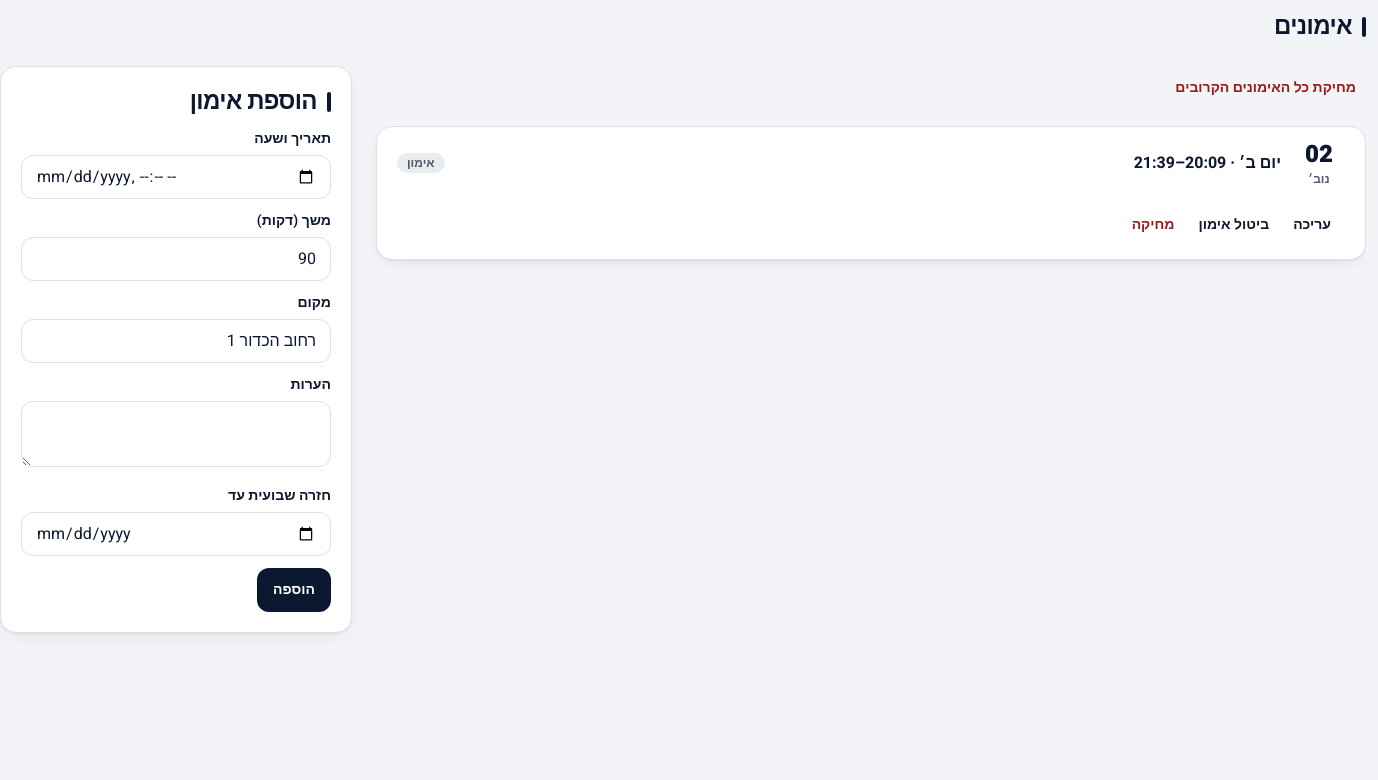
Scenario: PracticesAdmin › cancelling PATCHes cancelled: true
Click the button "ביטול אימון".
click(1234, 225)  # box 1188,203 -> 1279,247
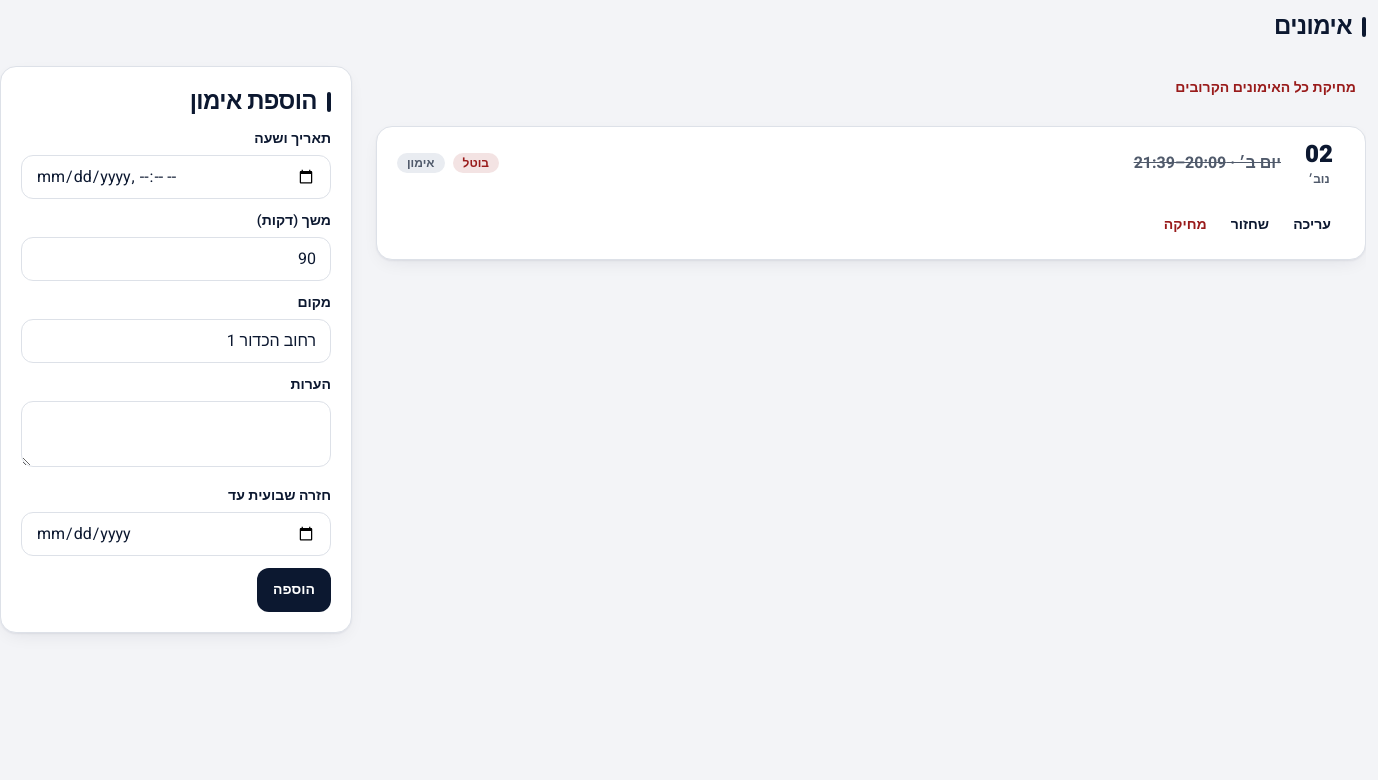
Check: the text "בוטל" is shown, box 452,153 -> 499,173
Check: the text "שחזור" is shown, box 1221,203 -> 1279,247
